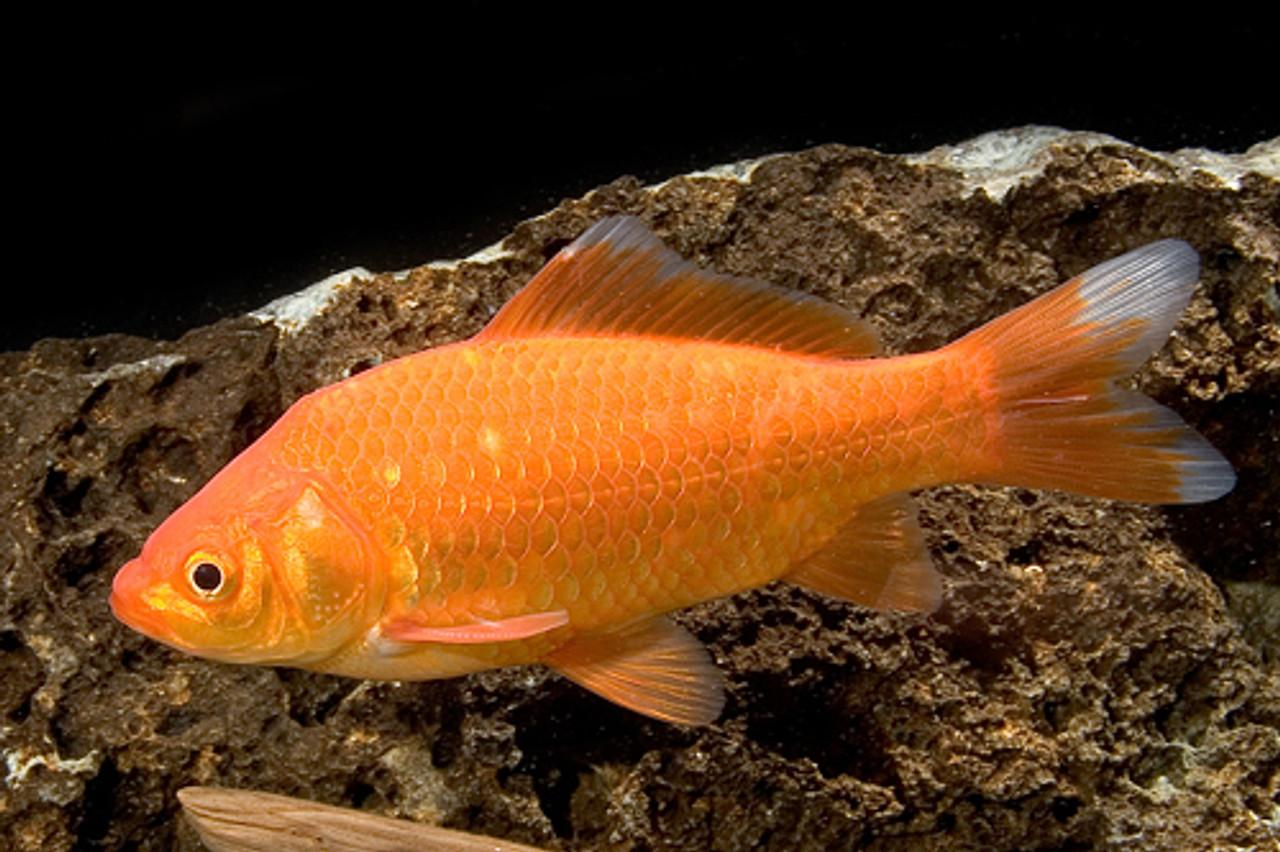Gold Fish: (111, 210, 1240, 734)
